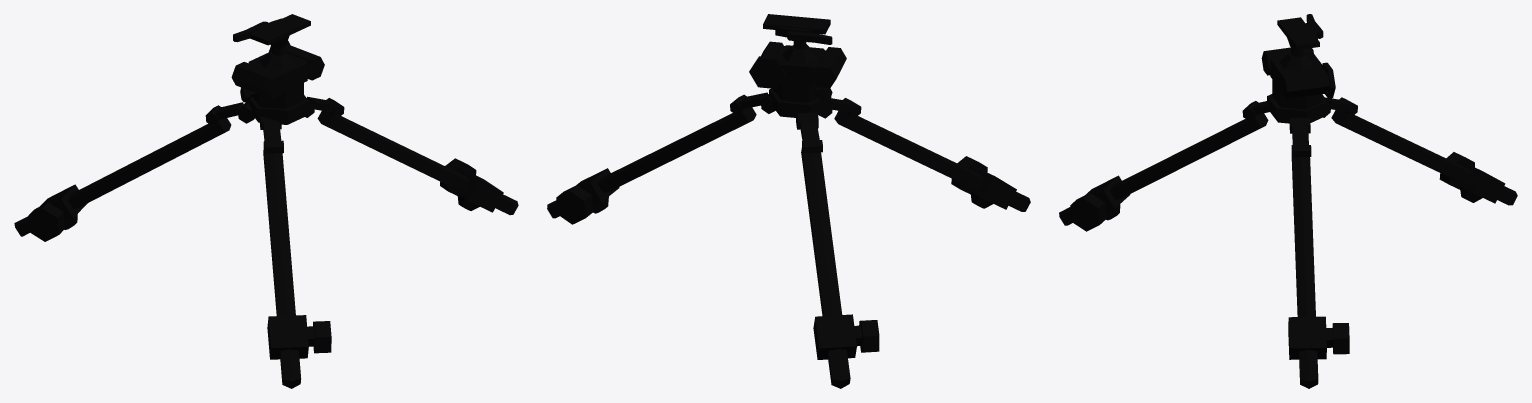
The model's file is SM_Tripod.fbx.
3 views of the same model, side by side, from view 1: azimuth 30°, elevation 25°; view 2: azimuth 150°, elevation 25°; view 3: azimuth 270°, elevation 25° (orthographic). The views are drawn at different scales.
Visible parts, largest first — view 1: SM_Tripod; view 2: SM_Tripod; view 3: SM_Tripod.
Boxes of the visible parts, x1,y1,x2,y2 form: SM_Tripod: (14,14,518,388); SM_Tripod: (547,14,1030,388); SM_Tripod: (1059,14,1517,388).
Size of the model in its own units: 38.37 by 37.82 by 22.4.
1 material, 1 textured.
